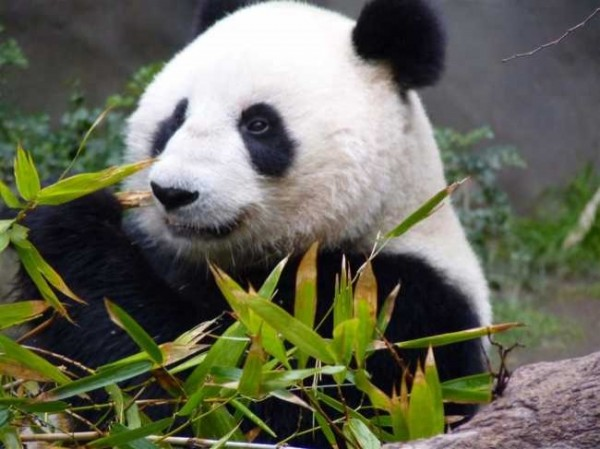panda: (15, 2, 499, 446)
